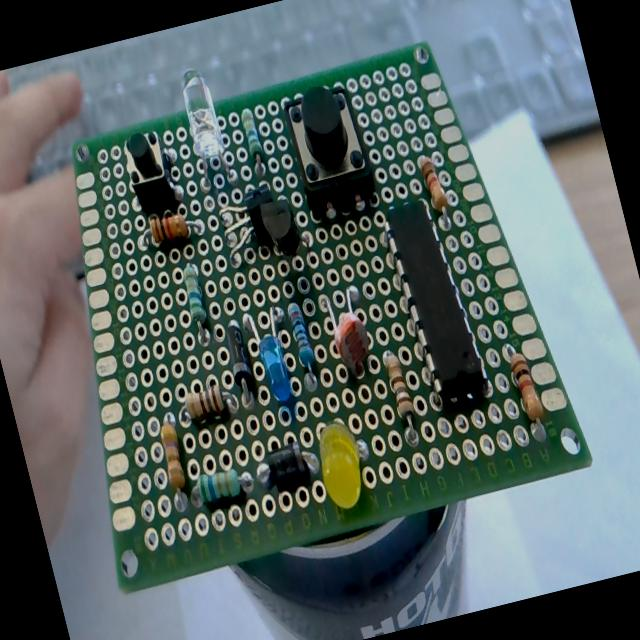IC: (382, 194, 488, 410)
cds: (322, 282, 379, 381)
diode: (248, 435, 326, 497), (220, 318, 260, 402)
led: (174, 65, 238, 189), (309, 418, 372, 514), (245, 302, 302, 403)
resistor: (383, 353, 422, 445), (284, 298, 323, 390), (177, 260, 216, 347), (506, 348, 546, 425), (182, 379, 236, 426), (156, 422, 190, 493), (238, 106, 270, 177), (194, 465, 244, 507), (418, 152, 450, 214), (147, 206, 191, 248)
switch: (280, 77, 378, 216), (118, 127, 180, 214)
transistor: (212, 182, 290, 270), (258, 193, 306, 260)
